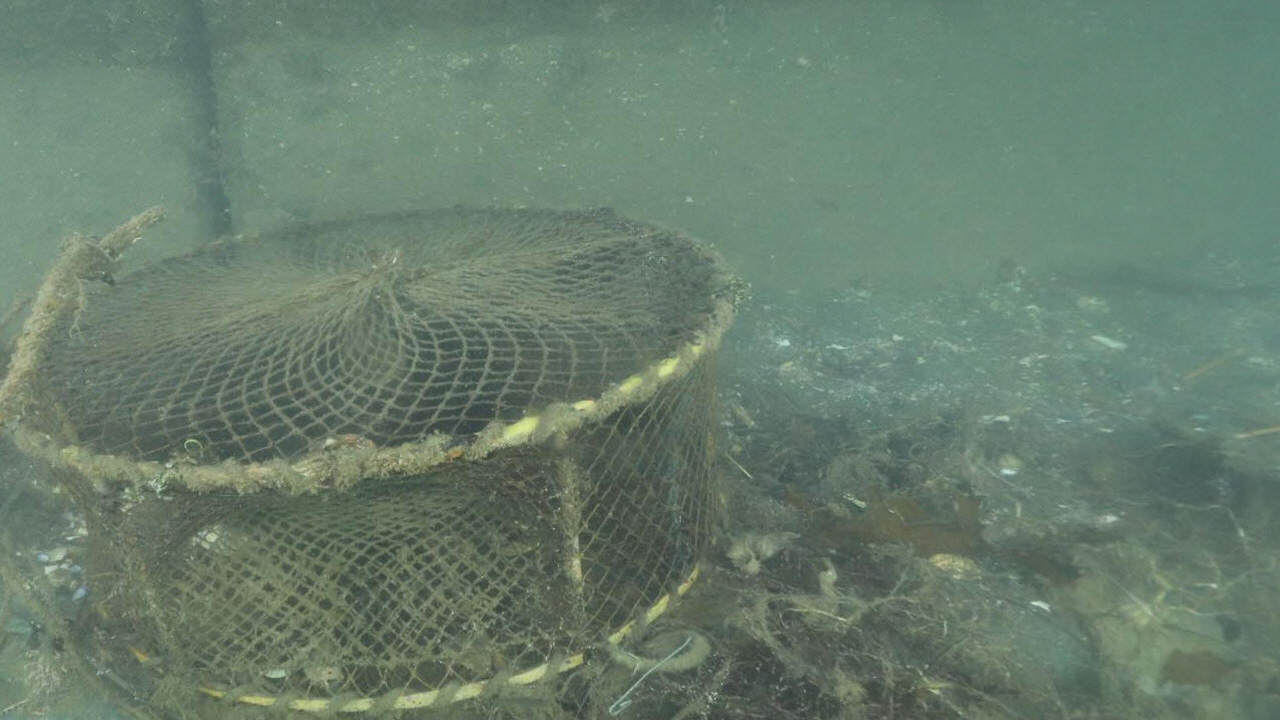circular fish trap: (0, 203, 744, 714)
